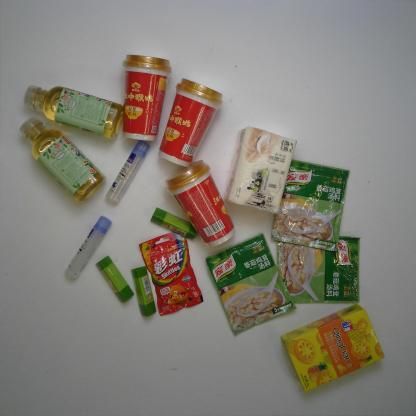Candy: (138, 231, 204, 315)
Dessert: (282, 305, 386, 393)
Drink: (19, 118, 104, 203), (22, 83, 125, 138)
Instant Drink: (165, 157, 233, 248), (159, 76, 226, 166), (118, 53, 173, 143)
Seasoner: (204, 234, 298, 336), (270, 160, 352, 253), (275, 234, 364, 305)
Stationery: (65, 216, 111, 282), (103, 140, 151, 203), (96, 256, 136, 303), (148, 206, 199, 239), (130, 264, 157, 317)
Tissue: (225, 126, 298, 215)
